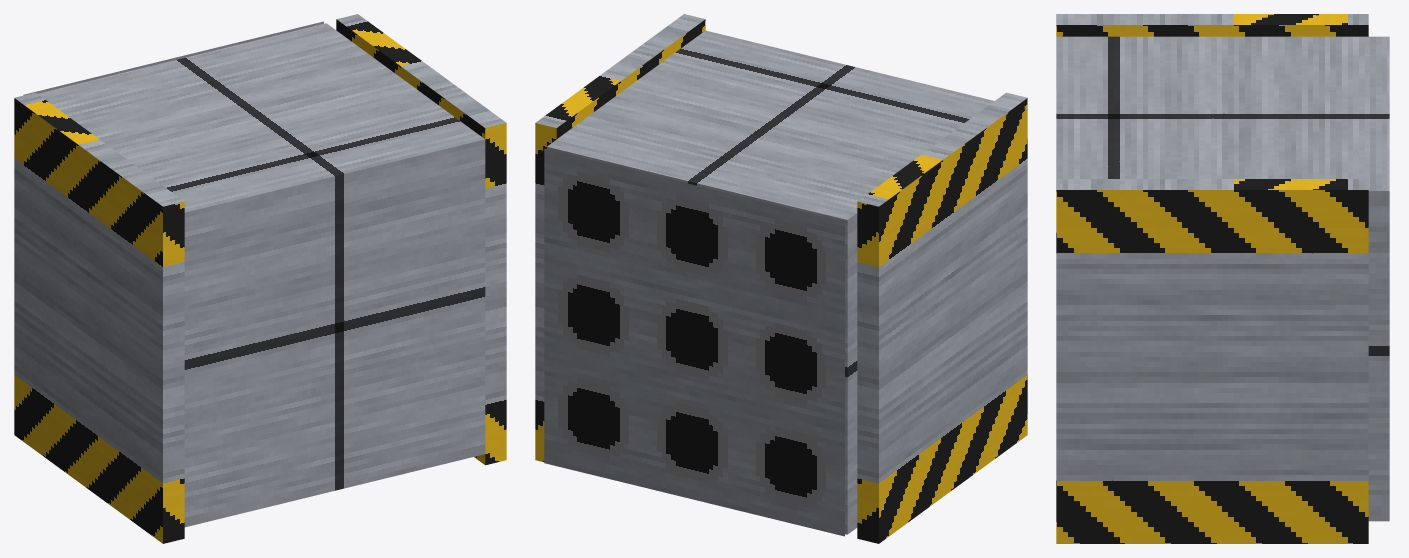
File: rack_kestrel.glb
3 renders of one model, left to right at view 1: azimuth 30°, elevation 25°; view 2: azimuth 150°, elevation 25°; view 3: azimuth 270°, elevation 25°, orthographic. The views are drawn at different scales.
Visible parts, largest first — view 1: rack, rack_rail, rack_rail.001, rack_face; view 2: rack_face, rack_rail, rack, rack_rail.001; view 3: rack_rail.001, rack, rack_rail.
Part boxes in pixels (x1,y1,x2,y2): rack: (37, 23, 485, 527); rack_rail: (14, 92, 184, 543); rack_rail.001: (336, 14, 506, 465); rack_face: (23, 21, 323, 95); rack_face: (544, 148, 844, 536); rack_rail: (857, 92, 1027, 543); rack: (546, 30, 994, 534); rack_rail.001: (535, 14, 705, 461); rack_rail.001: (1056, 179, 1368, 543); rack: (1056, 36, 1389, 521); rack_rail: (1056, 14, 1368, 36).
Size of the model in its own units: 16 by 15 by 13.
Materials: 3 (3 with a texture image).
